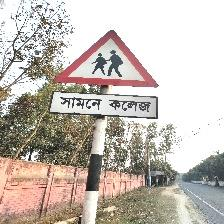College-in-front: (40, 21, 163, 136)
